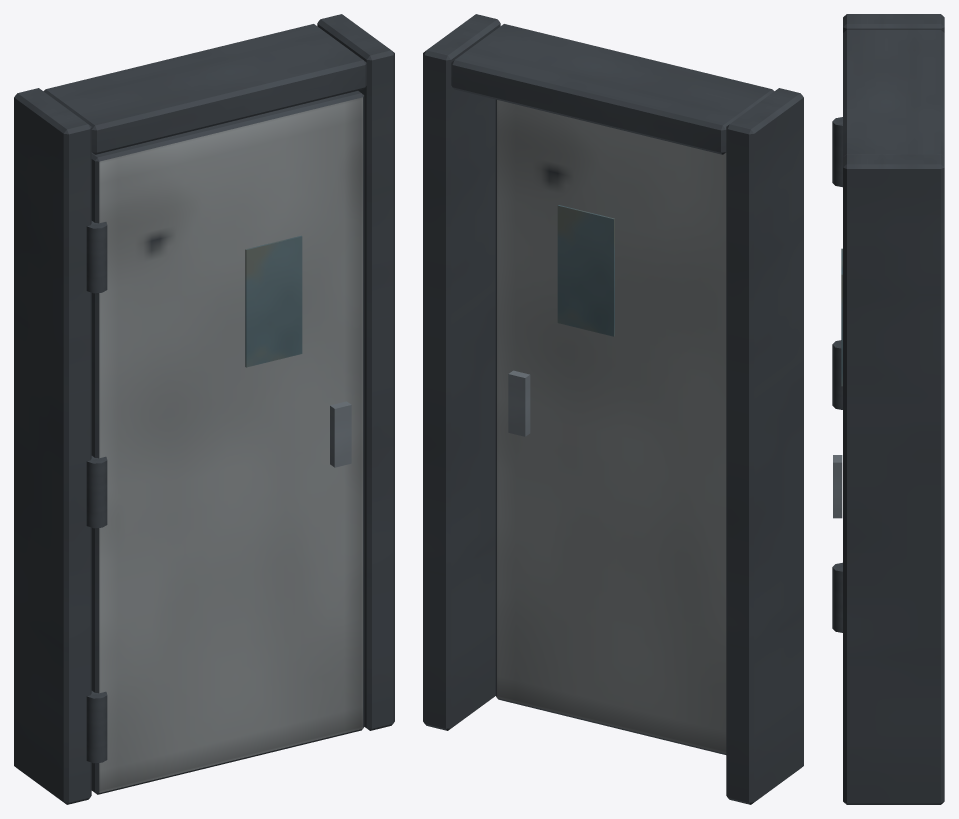
The model's file is door_security.fbx.
The picture shows the model from 3 angles, left to right: view 1: azimuth 30°, elevation 25°; view 2: azimuth 150°, elevation 25°; view 3: azimuth 270°, elevation 25°; orthographic projection. The views are drawn at different scales.
Visible parts, largest first — view 1: door_security_leaf, door_security, door_security_jamb, door_security_head; view 2: door_security_leaf, door_security, door_security_jamb, door_security_head; view 3: door_security_jamb, door_security_head, door_security_leaf, door_security.
Part boxes in pixels (bbox=[...]): door_security_leaf: bbox=[86, 91, 364, 794]; door_security: bbox=[14, 88, 91, 804]; door_security_jamb: bbox=[317, 14, 394, 730]; door_security_head: bbox=[43, 24, 366, 154]; door_security_leaf: bbox=[495, 99, 726, 754]; door_security: bbox=[726, 88, 803, 804]; door_security_jamb: bbox=[423, 14, 500, 730]; door_security_head: bbox=[451, 24, 774, 154]; door_security_jamb: bbox=[843, 154, 944, 804]; door_security_head: bbox=[843, 29, 944, 157]; door_security_leaf: bbox=[832, 117, 842, 632]; door_security: bbox=[843, 14, 944, 32].
Bounding box in the file's own units: 1.18 × 2.3 × 0.365.
1 material, 1 textured.
